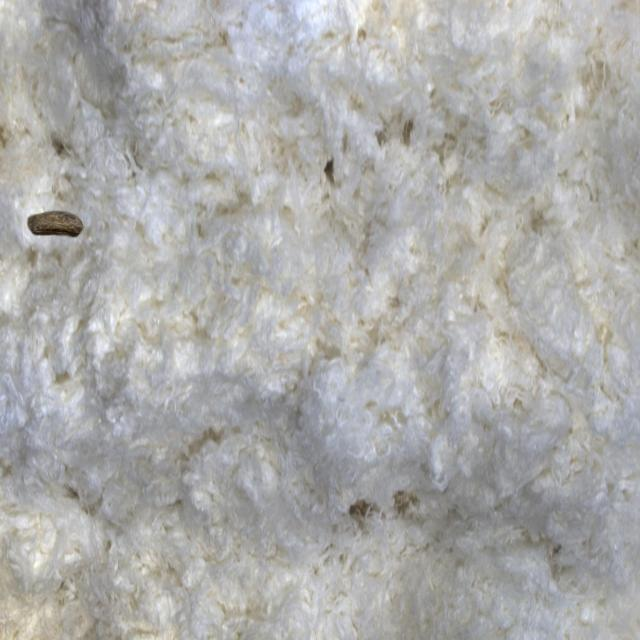dust: (4, 165, 102, 294)
